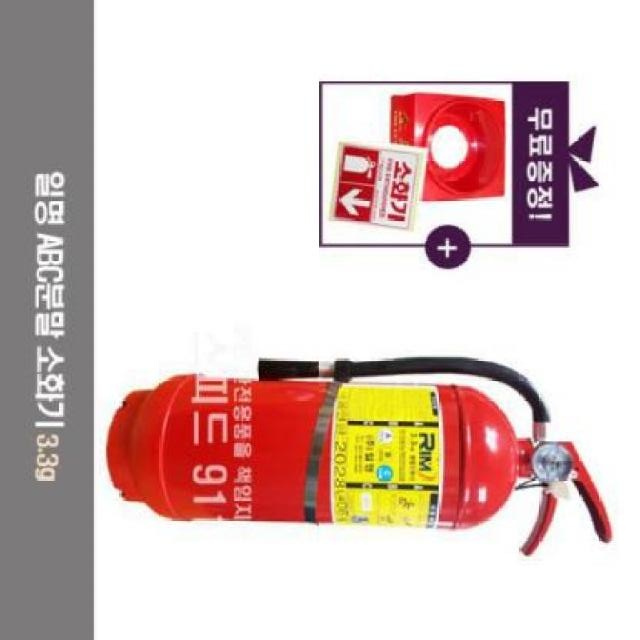fire extinguisher: (105, 354, 612, 558)
